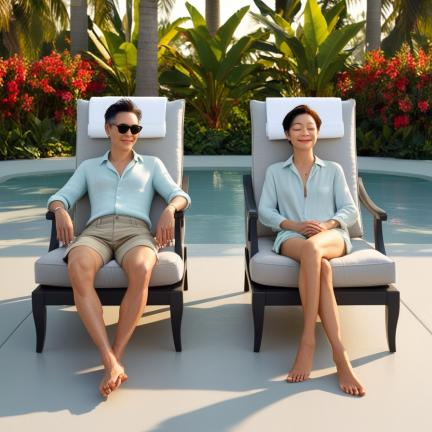guest on chair: (32, 97, 191, 397), (243, 98, 399, 394)
